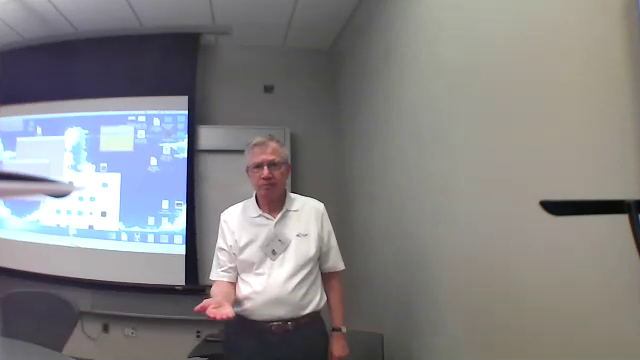land: (189, 290, 245, 324)
